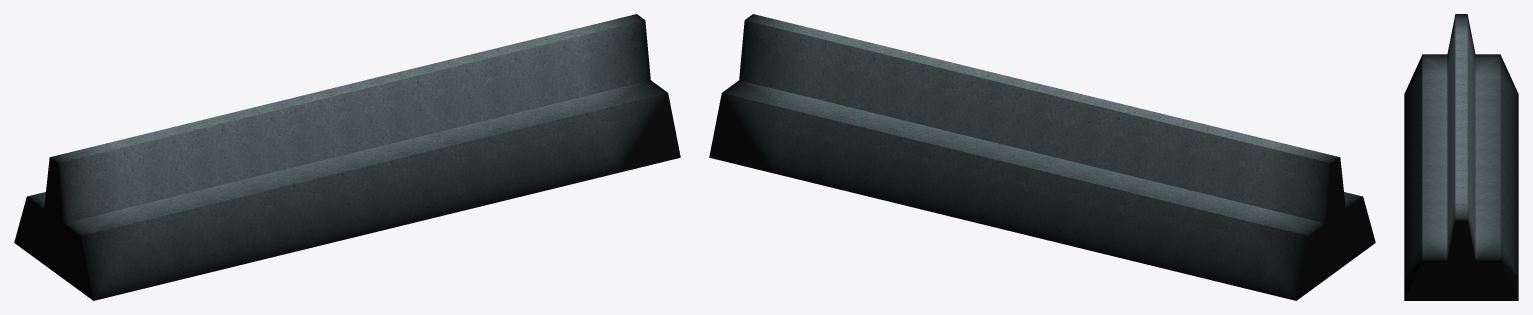
Rendered from TEKKYOU_HUCHI.glb.
3 views of the same model, side by side, from view 1: azimuth 30°, elevation 25°; view 2: azimuth 150°, elevation 25°; view 3: azimuth 270°, elevation 25° (orthographic). The views are drawn at different scales.
Parts seen in each view (by area): view 1: obj1; view 2: obj1; view 3: obj1.
Boxes of the visible parts, x1,y1,x2,y2 form: obj1: (14,14,680,300); obj1: (709,14,1375,300); obj1: (1404,14,1518,300).
Size of the model in its own units: 200 by 36.3 by 46.87.
Materials: 1 (1 with a texture image).
